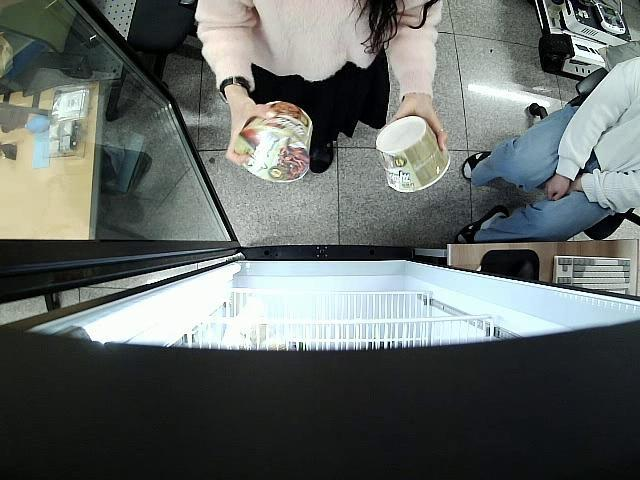03_chapagetti_L: (236, 104, 312, 184), (376, 115, 450, 192)
